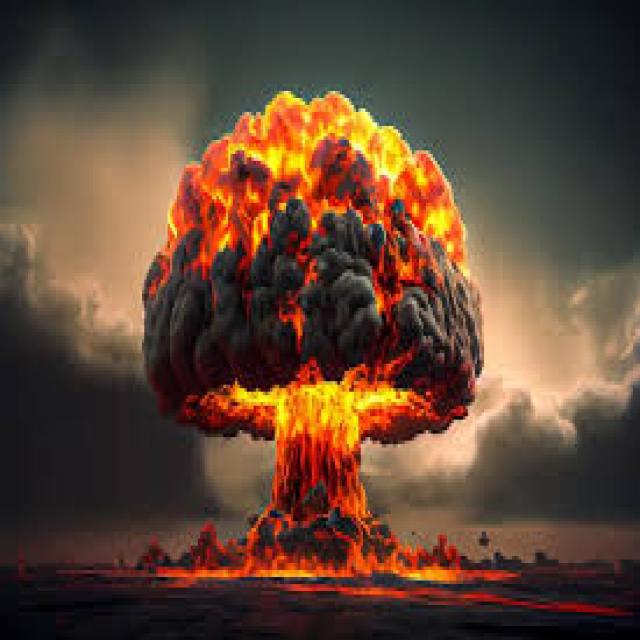explosion: (106, 70, 504, 605)
